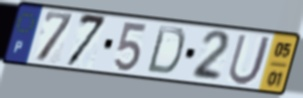2: (191, 29, 232, 83)
5: (112, 20, 151, 73)
7: (63, 12, 110, 69), (34, 10, 76, 65)
D: (145, 24, 188, 77)
U: (225, 33, 274, 88)
